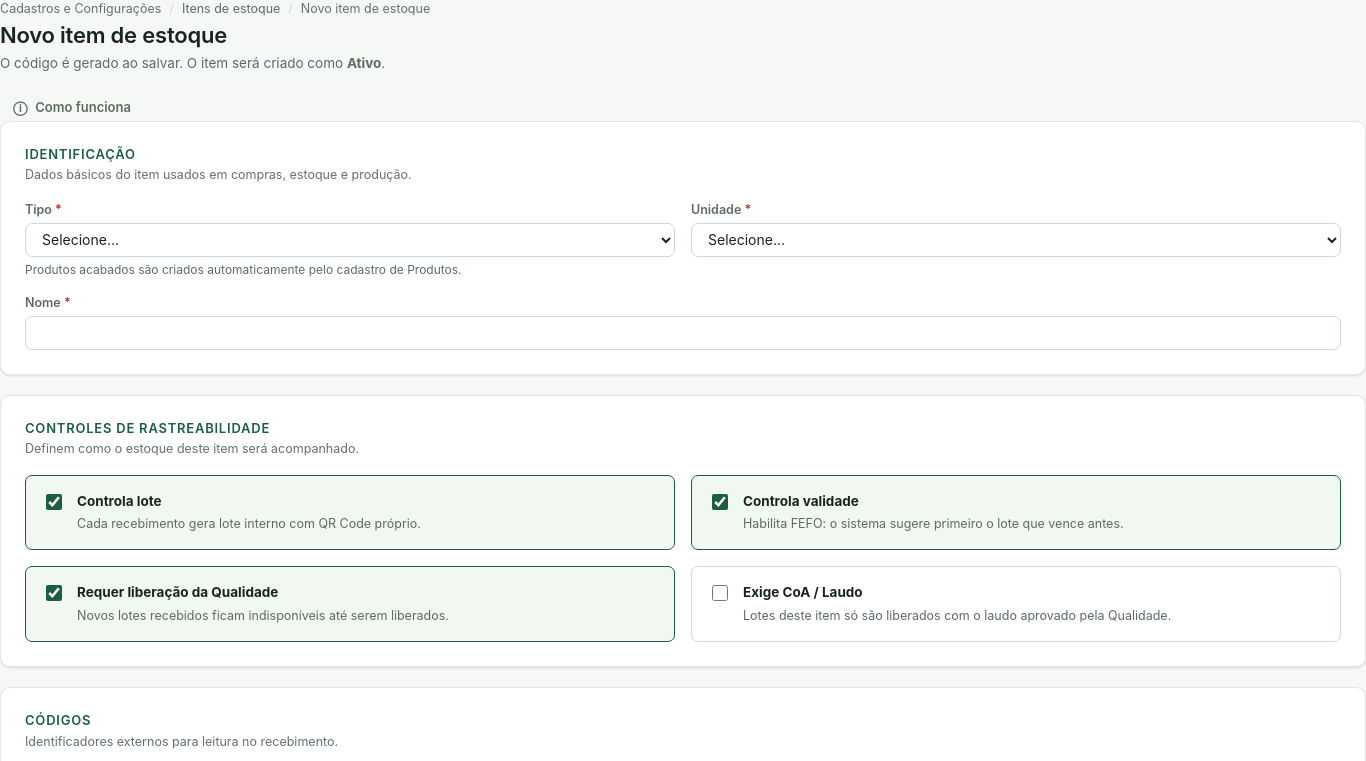
Scenario: Uso e consumo — formulário do Item › nasce com os quatro controles desmarcados
Select "Uso e consumo" in the dropdown with id "item-type". click: [350, 240]
box: [25, 223, 675, 257]
(page scrolled)
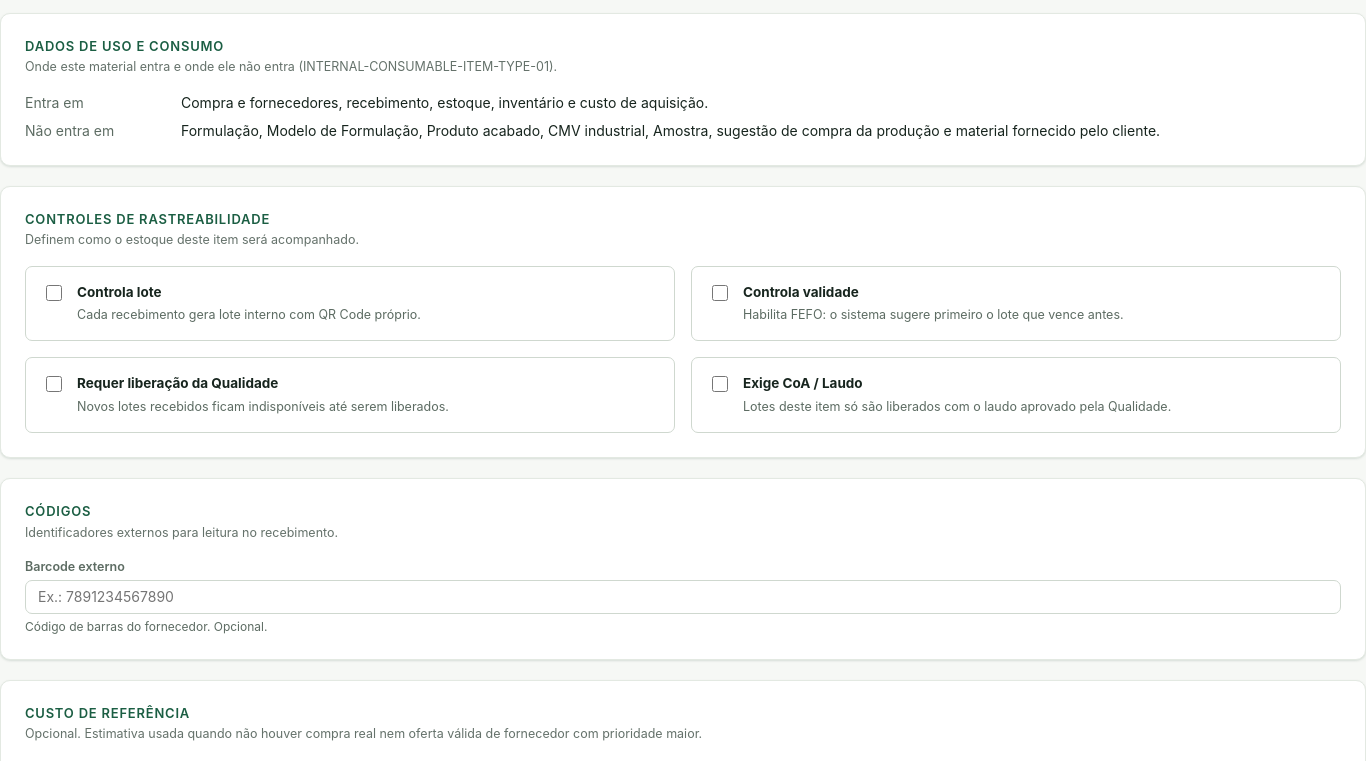
Now the checkbox with id "item-controls-lot" is not checked, box [46, 284, 62, 300]
Now the checkbox with id "item-controls-expiry" is not checked, box [712, 284, 728, 300]
Now the checkbox with id "item-requires-quality-release" is not checked, box [46, 376, 62, 392]
